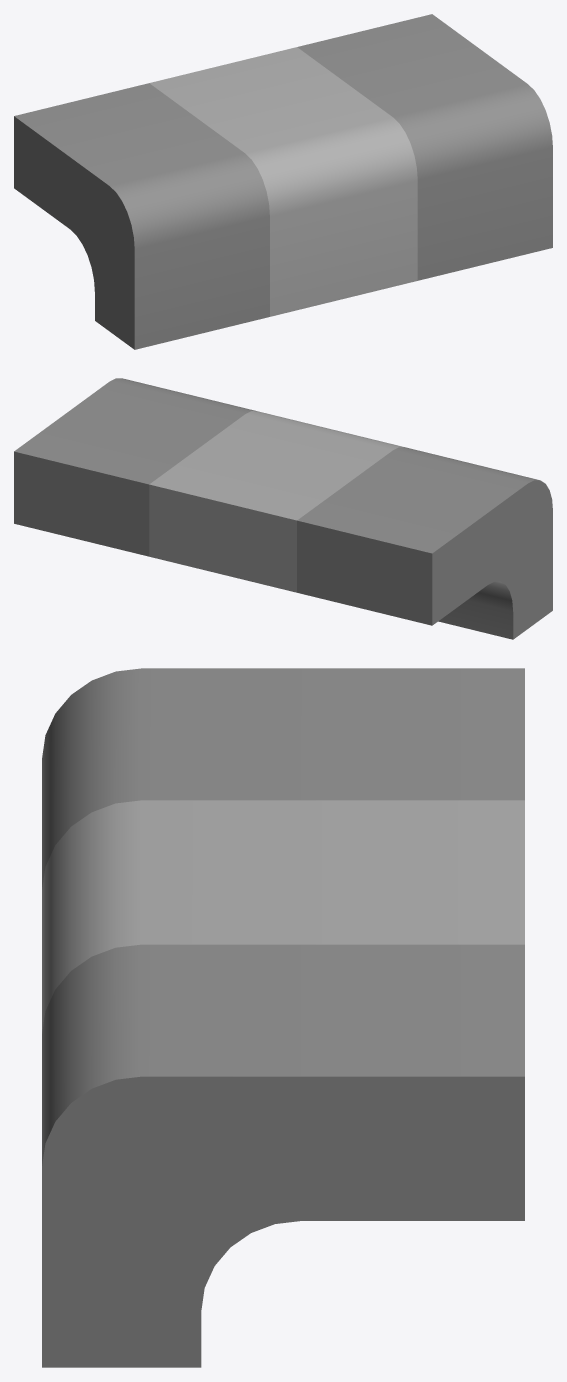
The model's file is Link B Gray L Type.fbx.
3 renders of one model, top to bottom at view 1: azimuth 30°, elevation 25°; view 2: azimuth 150°, elevation 25°; view 3: azimuth 270°, elevation 25°, orthographic. The views are drawn at different scales.
Visible parts, largest first — view 1: Link B Gray L Type; view 2: Link B Gray L Type; view 3: Link B Gray L Type.
Boxes of the visible parts, bbox=[...] form: Link B Gray L Type: bbox=[14, 14, 552, 349]; Link B Gray L Type: bbox=[14, 378, 552, 639]; Link B Gray L Type: bbox=[42, 668, 524, 1367].
Bounding box in the file's own units: 300 × 99.69 × 150.
